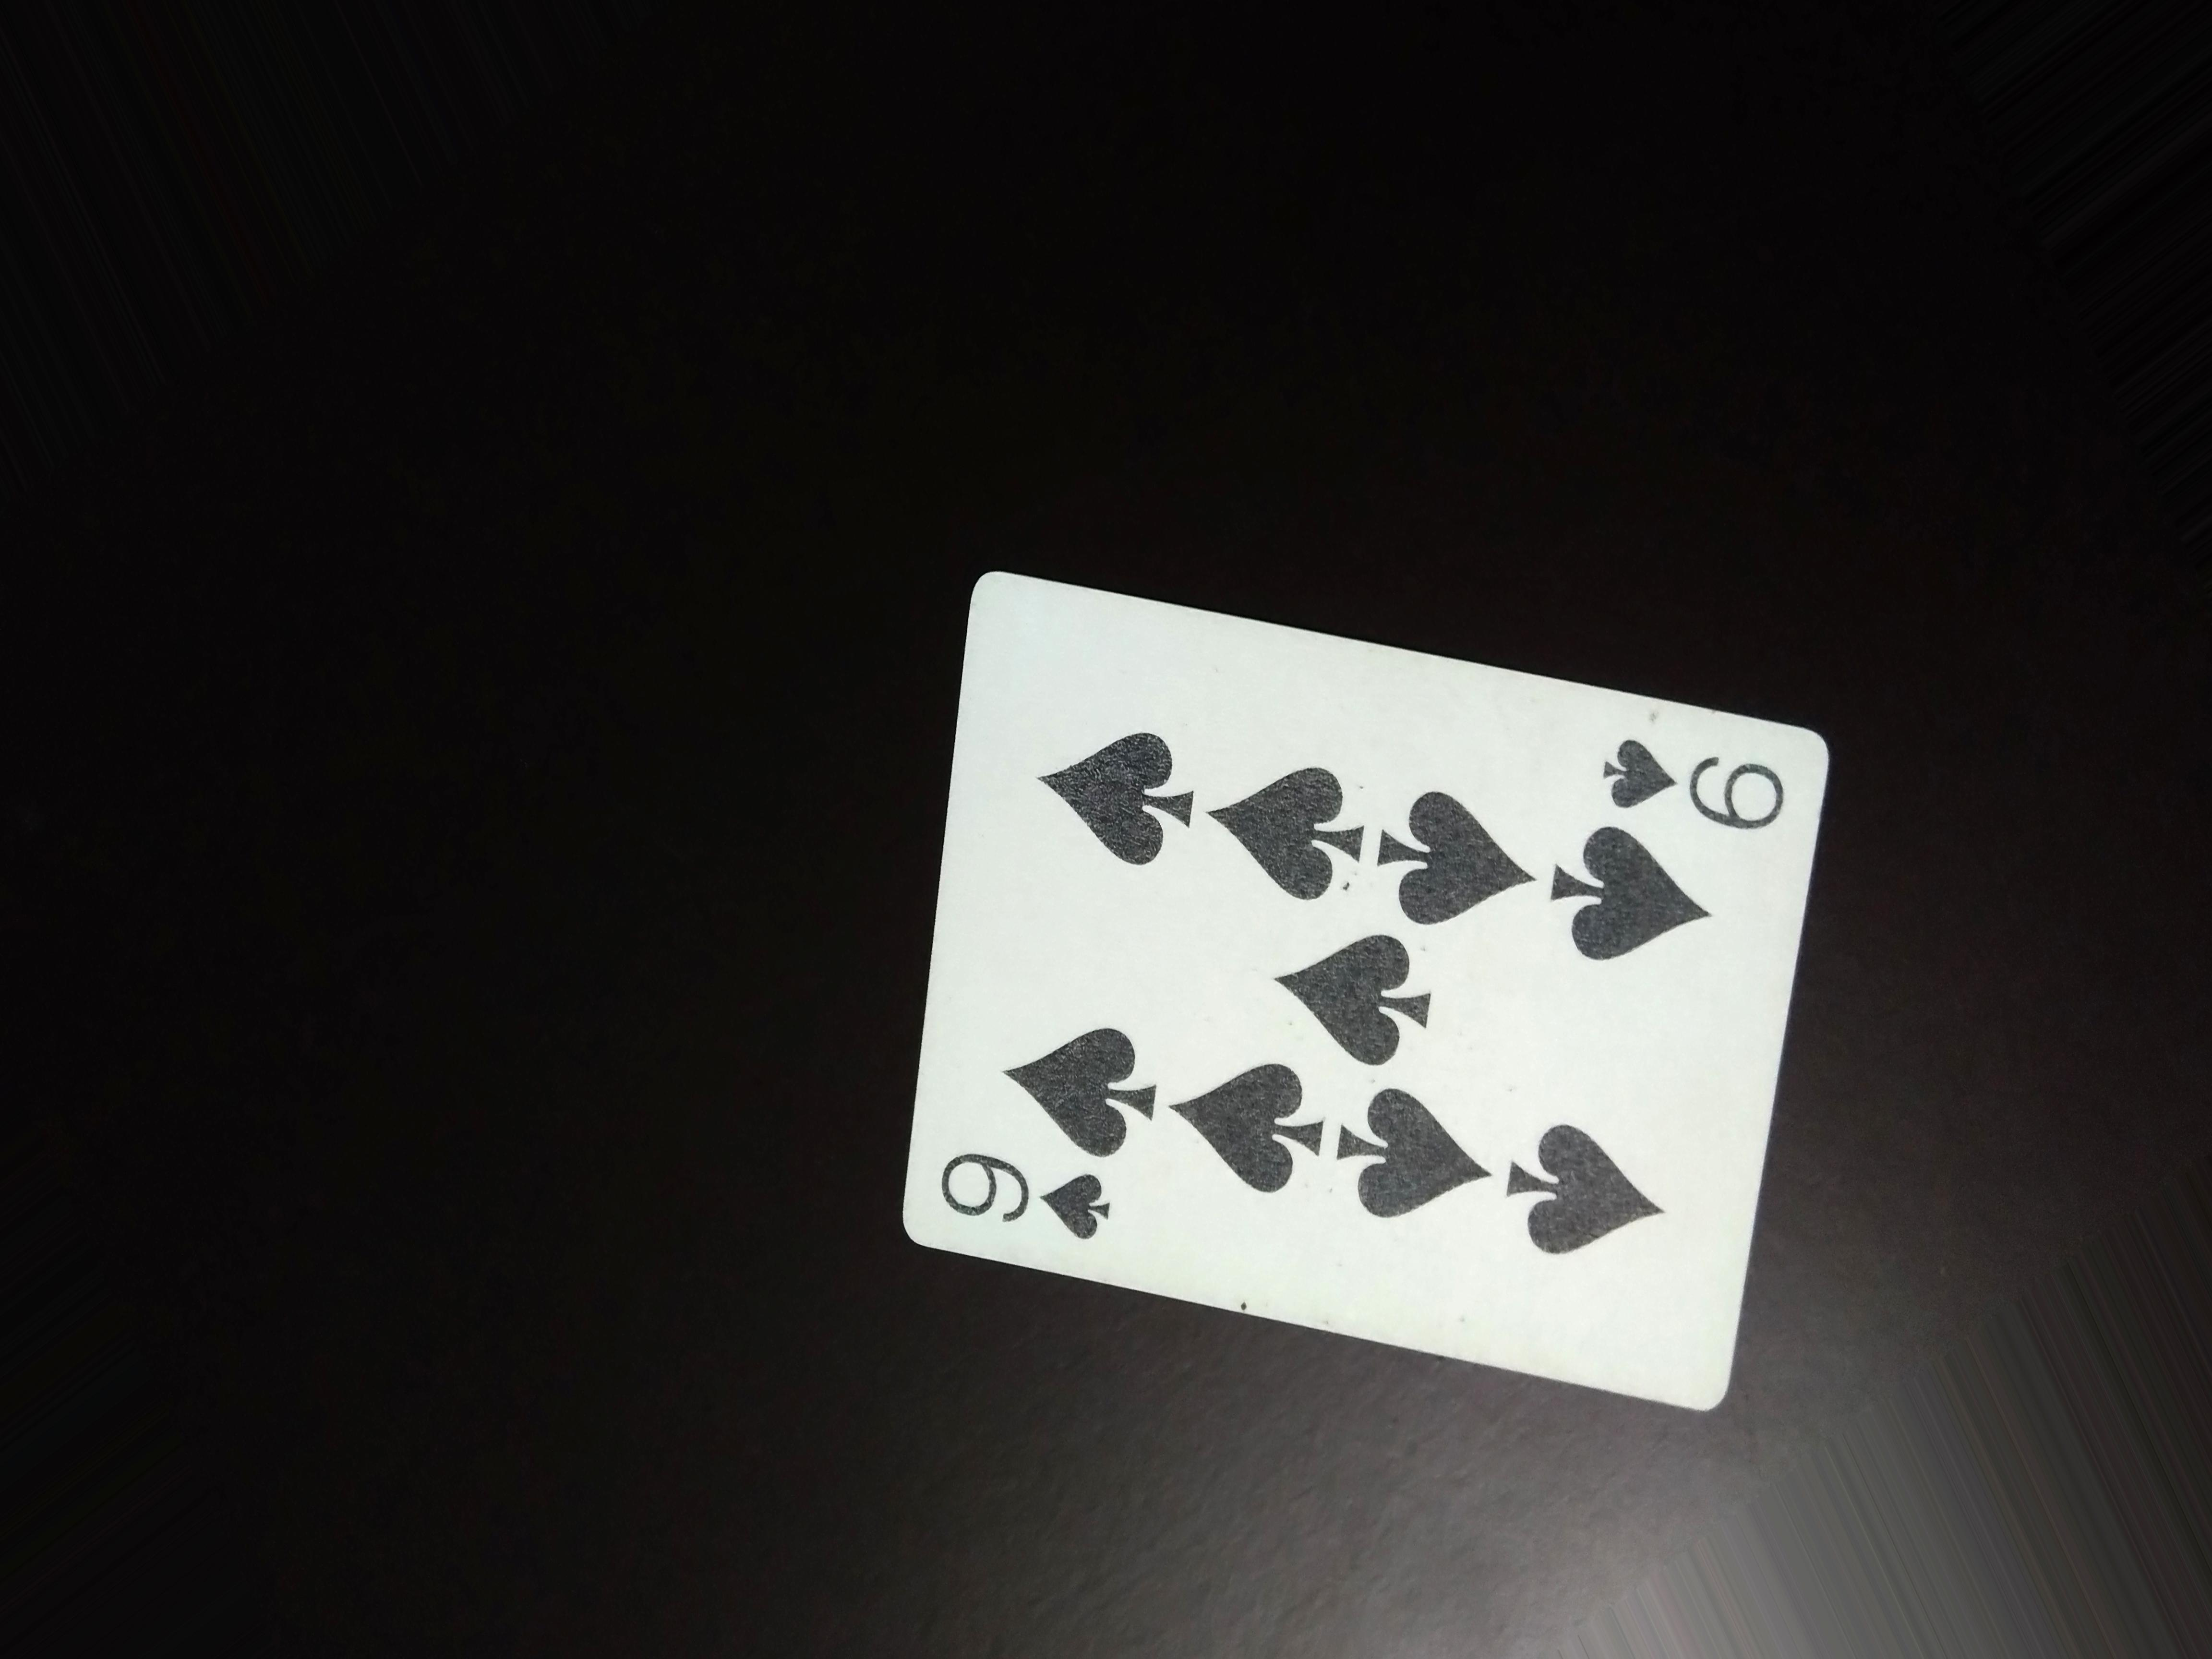9S: (1585, 714, 1789, 824)
